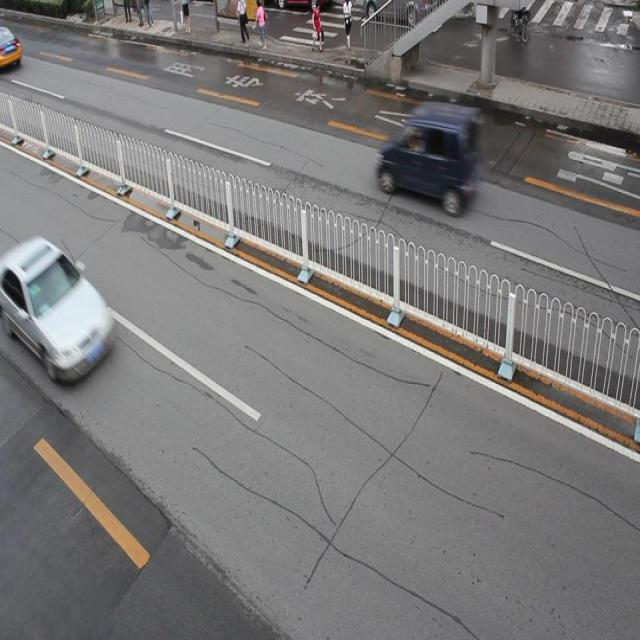car: (1, 236, 116, 378), (378, 101, 476, 207), (0, 27, 22, 72)
